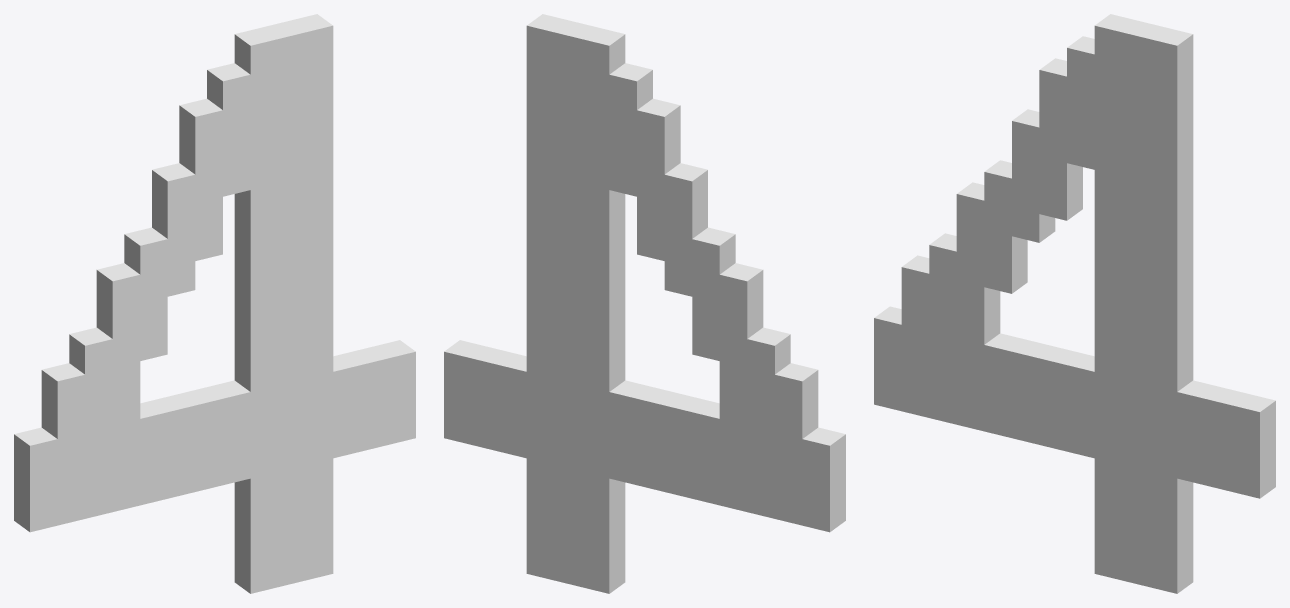
3 views of the same model, side by side, from view 1: azimuth 30°, elevation 25°; view 2: azimuth 150°, elevation 25°; view 3: azimuth 330°, elevation 25° (orthographic).
Visible parts, largest first — view 1: box_75; view 2: box_75; view 3: box_75.
Part boxes in pixels (x1,y1,x2,y2): box_75: (14, 14, 415, 593); box_75: (444, 14, 845, 593); box_75: (874, 14, 1275, 593).
Bounding box in the file's own units: 1.4 × 1.9 × 0.1.
Materials: 1 (1 with a texture image).
